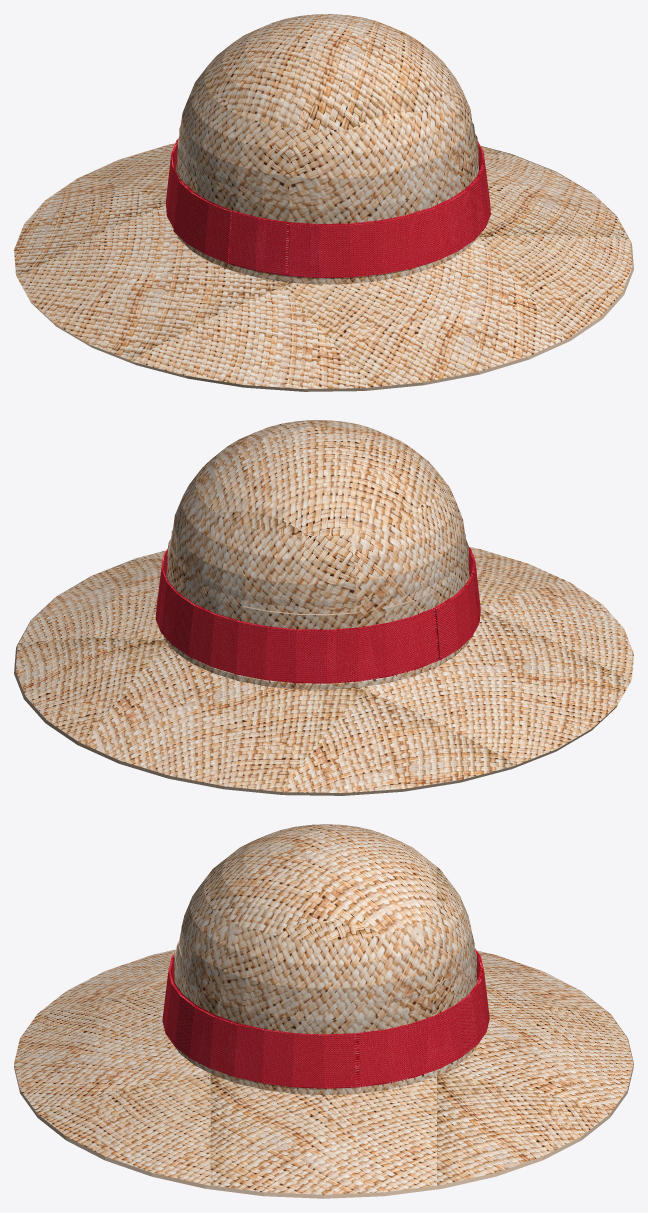
File: SOMBREROLUFFY.fbx
The picture shows the model from 3 angles, top to bottom: view 1: azimuth 30°, elevation 25°; view 2: azimuth 150°, elevation 25°; view 3: azimuth 270°, elevation 25°; orthographic projection.
Parts seen in each view (by area): view 1: sombrero, liston; view 2: sombrero, liston; view 3: sombrero, liston.
Part boxes in pixels (left/top/right/bottom): sombrero: left=14, top=14, right=633, bottom=391; liston: left=165, top=139, right=490, bottom=278; sombrero: left=14, top=420, right=633, bottom=795; liston: left=155, top=547, right=480, bottom=683; sombrero: left=14, top=824, right=633, bottom=1198; liston: left=162, top=948, right=489, bottom=1088.
Size of the model in its own units: 433 by 176 by 432.
Materials: 2 (2 with a texture image).
